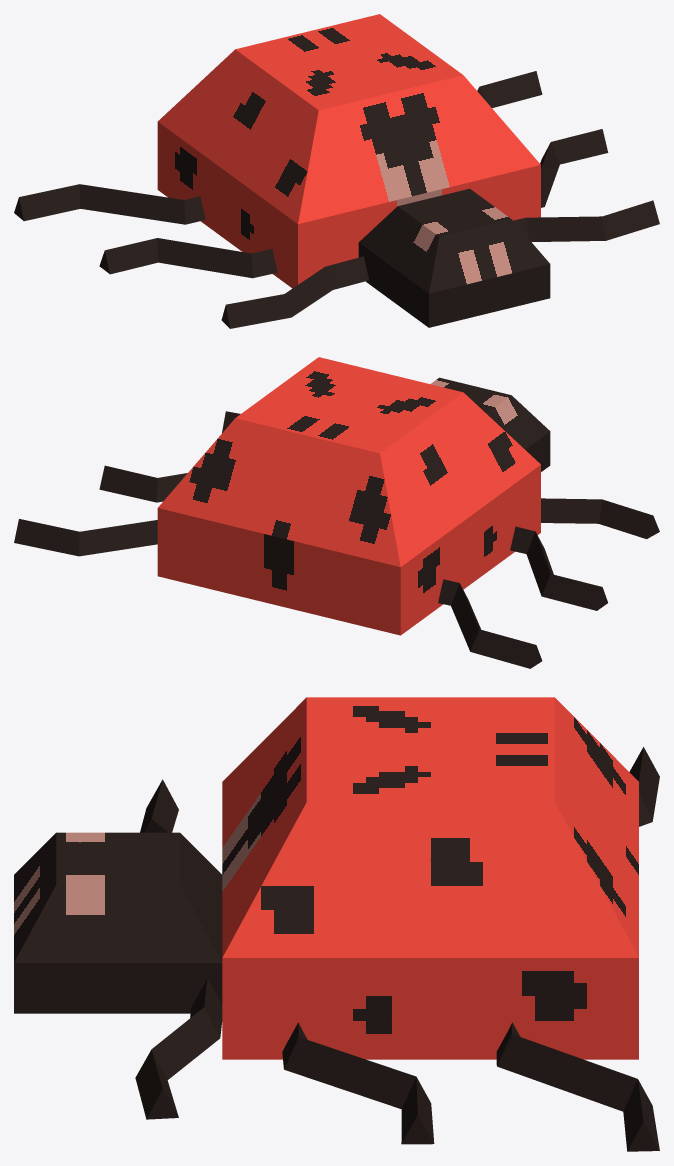
The model's file is ladybug.glb.
The picture shows the model from 3 angles, top to bottom: view 1: azimuth 30°, elevation 25°; view 2: azimuth 150°, elevation 25°; view 3: azimuth 270°, elevation 25°; orthographic projection. The views are drawn at different scales.
Visible parts, largest first — view 1: Cube; view 2: Cube; view 3: Cube.
Boxes of the visible parts, x1,y1,x2,y2 form: Cube: (14, 14, 659, 328); Cube: (14, 357, 659, 668); Cube: (14, 697, 659, 1151).
Size of the model in its own units: 2.84 by 0.7829 by 2.07.
1 material, 1 textured.
